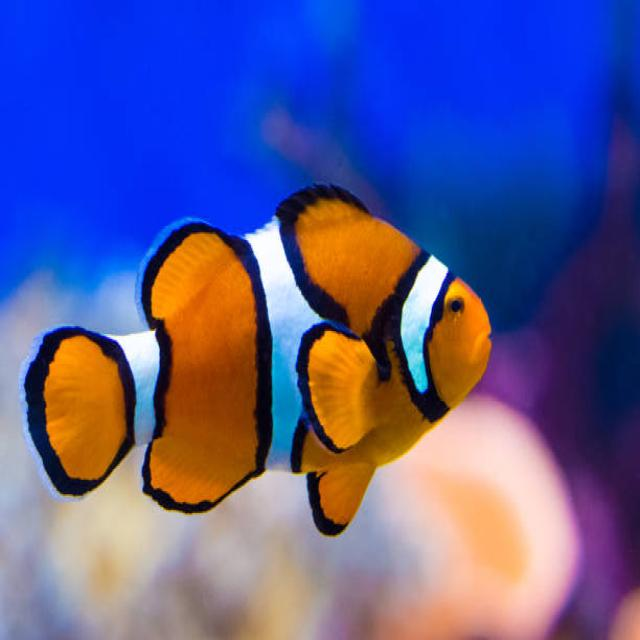ClownFish: (22, 184, 494, 532)
